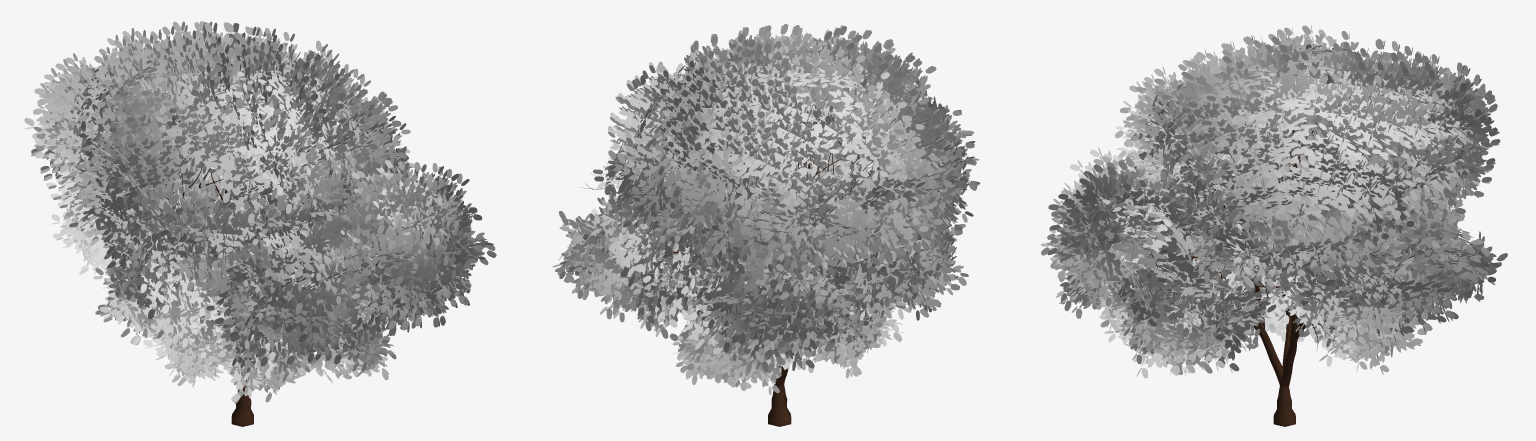
The model's file is tree.fbx.
3 renders of one model, left to right at view 1: azimuth 30°, elevation 25°; view 2: azimuth 150°, elevation 25°; view 3: azimuth 270°, elevation 25°, orthographic. The views are drawn at different scales.
Parts seen in each view (by area): view 1: Plane.131, tree; view 2: Plane.131, tree; view 3: Plane.131, tree.
Part boxes in pixels (x1,y1,x2,y2): Plane.131: (24, 21, 496, 403); tree: (116, 101, 428, 426); Plane.131: (552, 24, 980, 395); tree: (582, 105, 888, 426); Plane.131: (1040, 25, 1507, 378); tree: (1120, 113, 1442, 426).
Bounding box in the file's own units: 1157 × 1175 × 1384.
